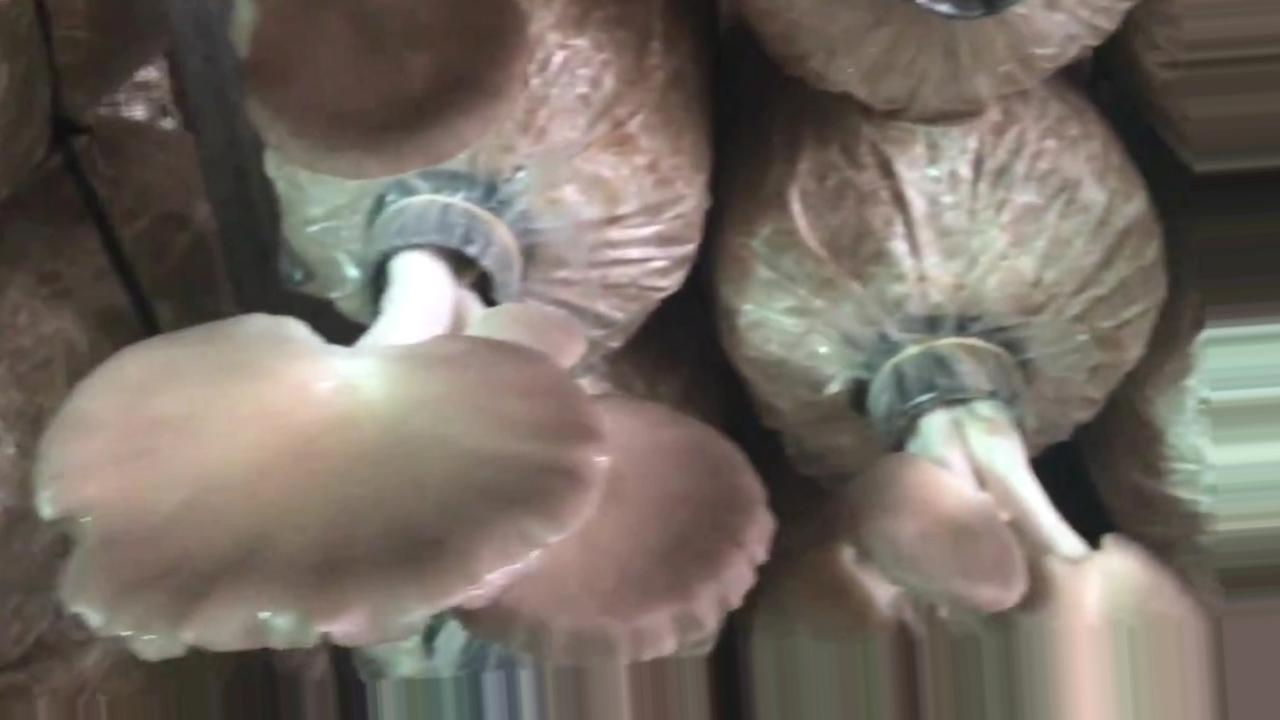nam: (38, 180, 610, 668), (759, 332, 1211, 630), (455, 388, 780, 666), (250, 1, 535, 182)
